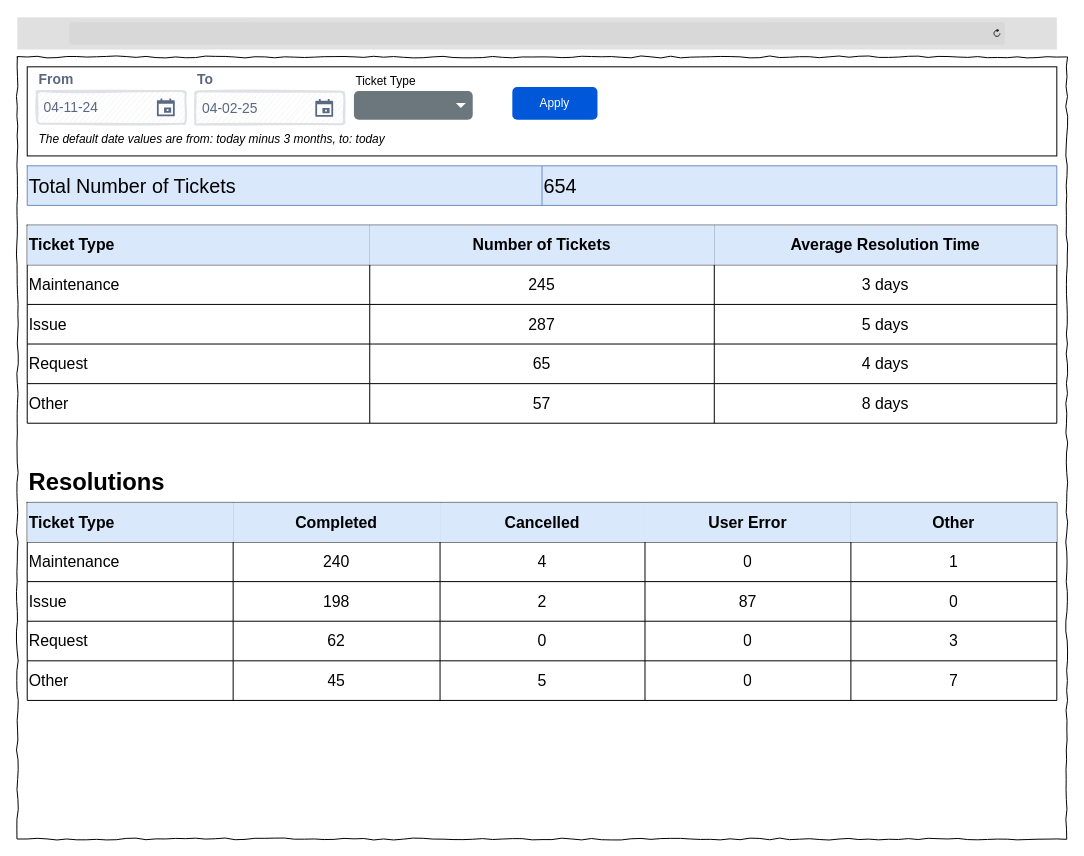
Image size: 1084x856. Some labels were removed from this diagram. The centre of each missing label's shape, as x and y in pixels:
Any: point (412, 105)
companyitassets/reports/tickets/: point (536, 33)
